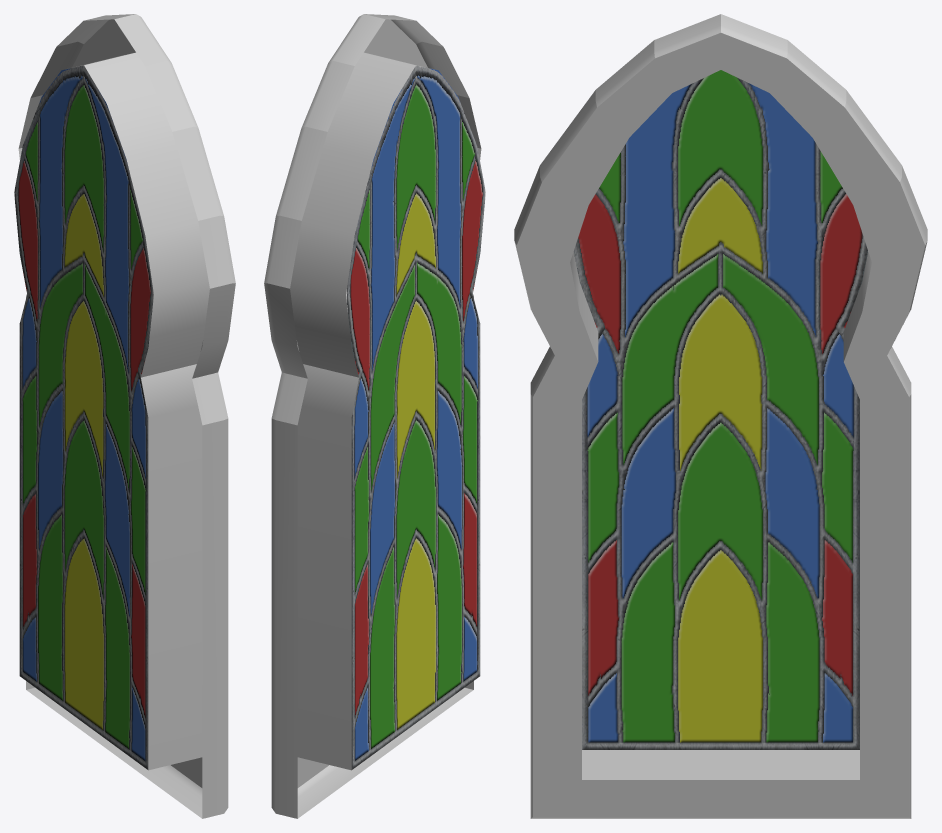
The model's file is Dom_znati_mozaicnoe_okno_mal.fbx.
3 views of the same model, side by side, from view 1: azimuth 30°, elevation 25°; view 2: azimuth 150°, elevation 25°; view 3: azimuth 270°, elevation 25° (orthographic). The views are drawn at different scales.
Visible parts, largest first — view 1: Dom_znati_mozaicnoe_okno_mal; view 2: Dom_znati_mozaicnoe_okno_mal; view 3: Dom_znati_mozaicnoe_okno_mal.
Part boxes in pixels (box(x1,y1,x2,y2)): Dom_znati_mozaicnoe_okno_mal: box(14, 14, 235, 818); Dom_znati_mozaicnoe_okno_mal: box(264, 14, 485, 818); Dom_znati_mozaicnoe_okno_mal: box(514, 14, 927, 818).
Size of the model in its own units: 0.6683 by 8.21 by 3.87.
